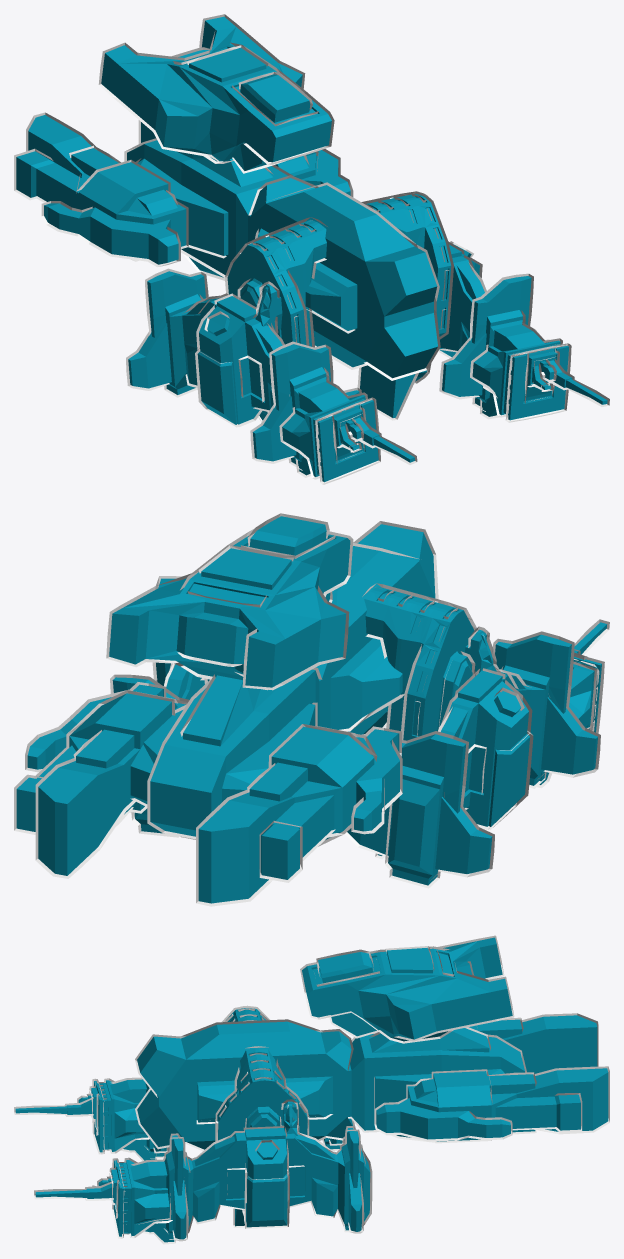
The model's file is ship19_blue.glb.
3 views of the same model, one above another, from view 1: azimuth 30°, elevation 25°; view 2: azimuth 150°, elevation 25°; view 3: azimuth 270°, elevation 25° (orthographic). The views are drawn at different scales.
Visible parts, largest first — view 1: ME_ship_IndexedFaceSet; view 2: ME_ship_IndexedFaceSet; view 3: ME_ship_IndexedFaceSet.
Part boxes in pixels (x1,y1,x2,y2): ME_ship_IndexedFaceSet: (14,14,609,484); ME_ship_IndexedFaceSet: (14,513,609,906); ME_ship_IndexedFaceSet: (14,935,609,1244).
Bounding box in the file's own units: 274 × 233 × 506.
